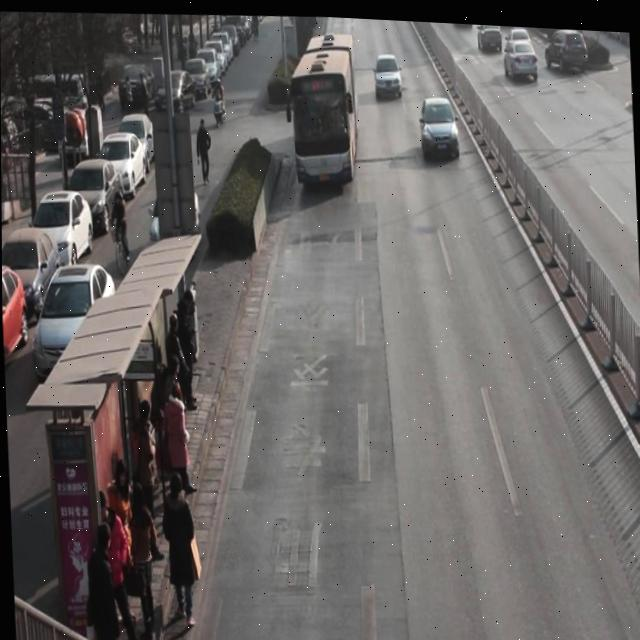car: (418, 89, 460, 157), (544, 22, 588, 69), (501, 33, 540, 79), (373, 49, 402, 97), (506, 22, 537, 51), (476, 19, 503, 46)
van: (288, 30, 358, 185)
